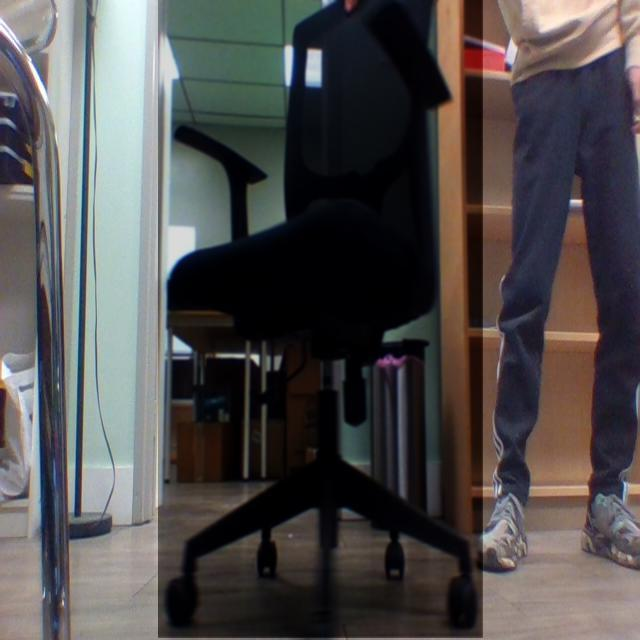chair: (158, 1, 484, 640)
